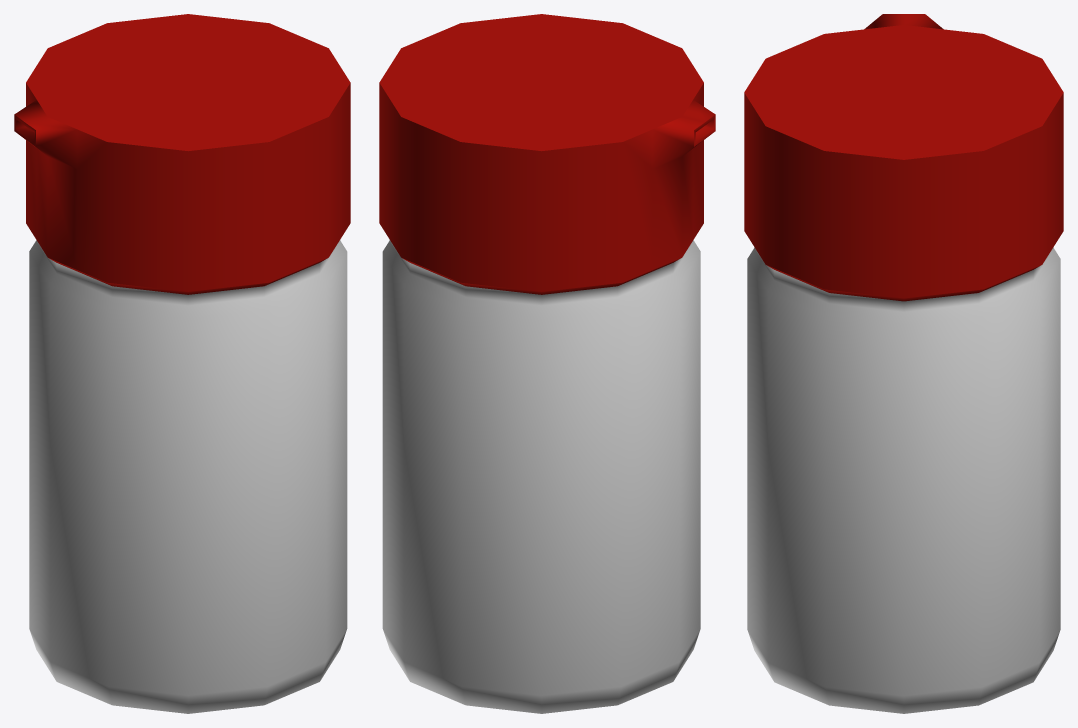
Rendered from CruetSoy.glb.
3 renders of one model, left to right at view 1: azimuth 30°, elevation 25°; view 2: azimuth 150°, elevation 25°; view 3: azimuth 270°, elevation 25°, orthographic.
Parts seen in each view (by area): view 1: Cylinder; view 2: Cylinder; view 3: Cylinder.
Part boxes in pixels (left/top/right/bottom): Cylinder: left=14, top=14, right=350, bottom=713; Cylinder: left=379, top=14, right=715, bottom=713; Cylinder: left=744, top=14, right=1063, bottom=713.
Bounding box in the file's own units: 0.2309 × 0.4118 × 0.2136.
